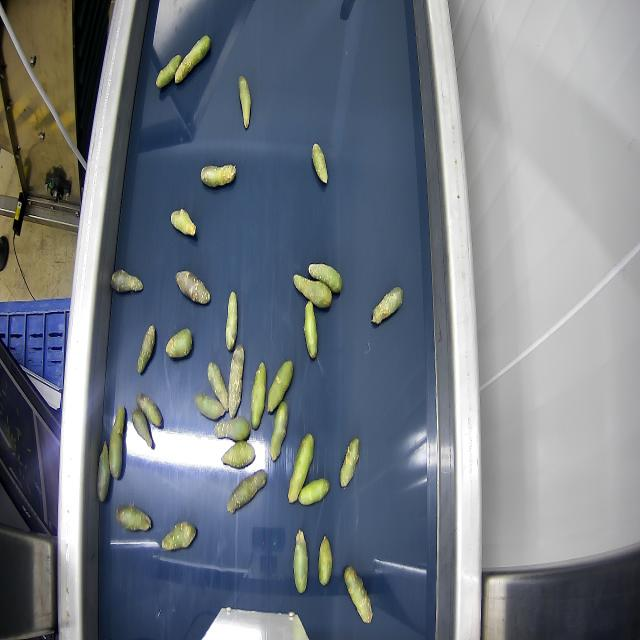Baby Potato: (287, 434, 315, 506), (176, 34, 213, 84), (227, 471, 267, 513), (344, 566, 372, 623), (266, 358, 294, 414), (307, 258, 346, 294), (227, 342, 245, 419), (109, 401, 126, 482), (293, 274, 333, 308), (206, 363, 234, 411), (175, 269, 211, 305), (160, 518, 198, 552), (371, 286, 403, 324), (136, 388, 164, 428), (250, 360, 266, 428), (339, 435, 359, 489), (270, 400, 288, 460), (200, 160, 237, 189), (114, 504, 152, 532), (297, 476, 331, 506), (129, 409, 154, 448), (213, 416, 252, 441), (154, 54, 182, 88), (293, 532, 308, 594), (221, 441, 255, 468), (137, 324, 155, 374), (196, 392, 226, 421), (303, 300, 317, 359), (165, 329, 193, 358), (225, 290, 238, 350), (170, 207, 196, 237), (111, 268, 143, 292), (97, 443, 110, 502), (318, 535, 332, 588), (238, 75, 251, 128), (312, 142, 328, 184)
